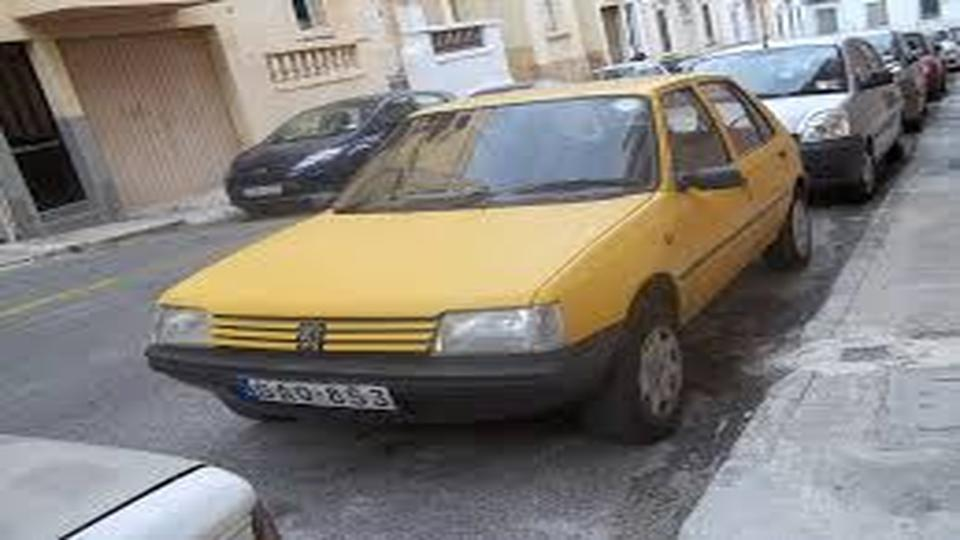NumberPlate: (236, 367, 401, 428)
